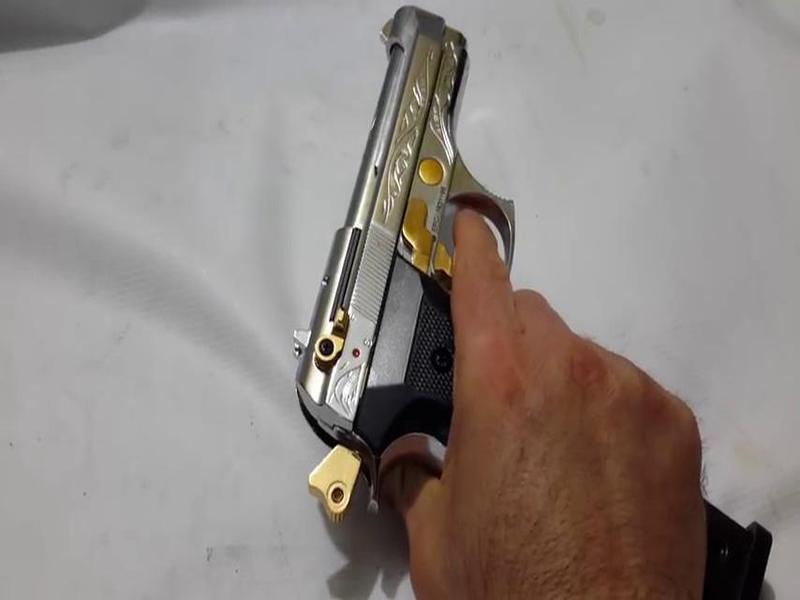Pistola: (286, 4, 777, 565)
